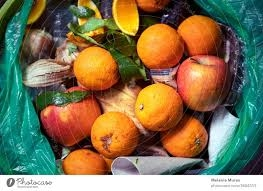kitchen_waste: (40, 84, 106, 148), (175, 54, 230, 115), (71, 45, 126, 95), (87, 109, 141, 159), (134, 81, 185, 132), (176, 11, 226, 63), (135, 21, 183, 73), (158, 114, 208, 160), (67, 1, 114, 42), (23, 57, 75, 88), (62, 148, 114, 176), (110, 1, 144, 42), (21, 24, 60, 58)
paper: (105, 154, 215, 178), (203, 105, 241, 165)
